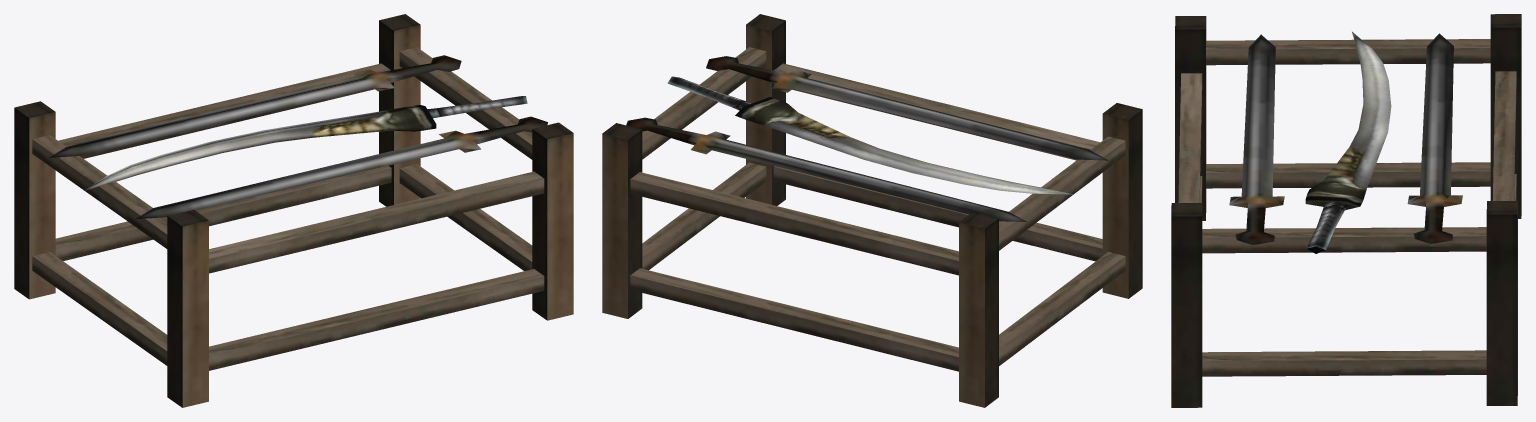
The model's file is h5_wuqijia_02.FBX.
3 views of the same model, side by side, from view 1: azimuth 30°, elevation 25°; view 2: azimuth 150°, elevation 25°; view 3: azimuth 270°, elevation 25° (orthographic). The views are drawn at different scales.
Parts seen in each view (by area): view 1: h5_wuqijia_02; view 2: h5_wuqijia_02; view 3: h5_wuqijia_02.
Part boxes in pixels (box(x1,y1,x2,y2)): h5_wuqijia_02: box(14, 14, 573, 407); h5_wuqijia_02: box(602, 14, 1142, 407); h5_wuqijia_02: box(1171, 14, 1521, 407).
Bounding box in the file's own units: 3.38 × 1.38 × 2.29.
1 material, 1 textured.
